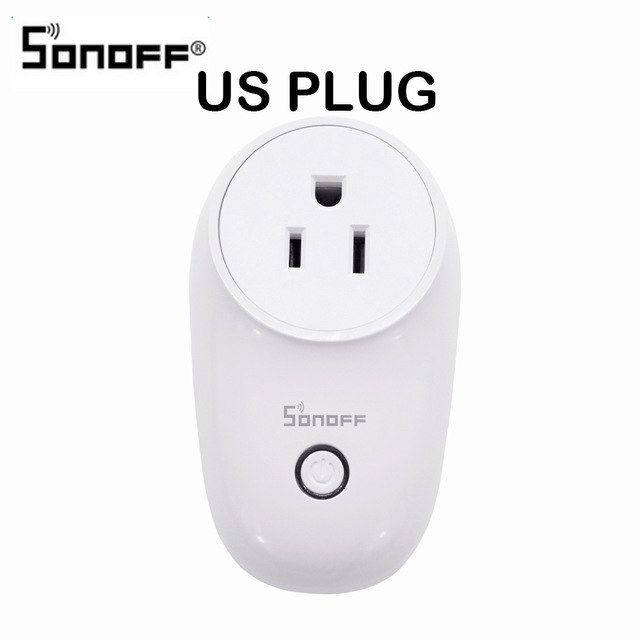Three_eye_plug: (178, 114, 472, 602)
